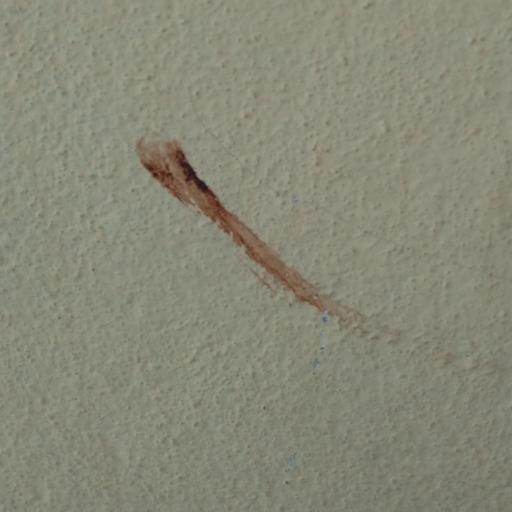stain: (128, 70, 499, 392)
